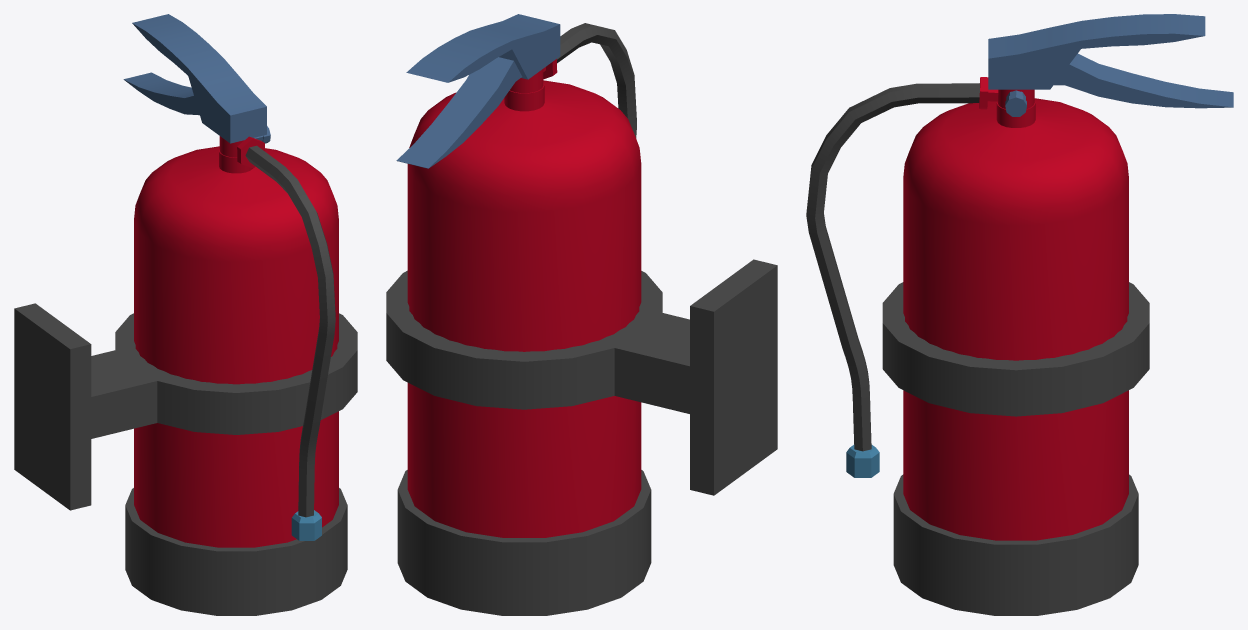
File: Fire Ext.fbx
3 renders of one model, left to right at view 1: azimuth 30°, elevation 25°; view 2: azimuth 150°, elevation 25°; view 3: azimuth 270°, elevation 25°, orthographic. The views are drawn at different scales.
Visible parts, largest first — view 1: Fire EX; view 2: Fire EX; view 3: Fire EX.
Boxes of the visible parts, x1,y1,x2,y2 form: Fire EX: (14, 14, 357, 615); Fire EX: (386, 14, 777, 615); Fire EX: (806, 14, 1233, 615).
Bounding box in the file's own units: 38.75 × 60.42 × 43.23.
